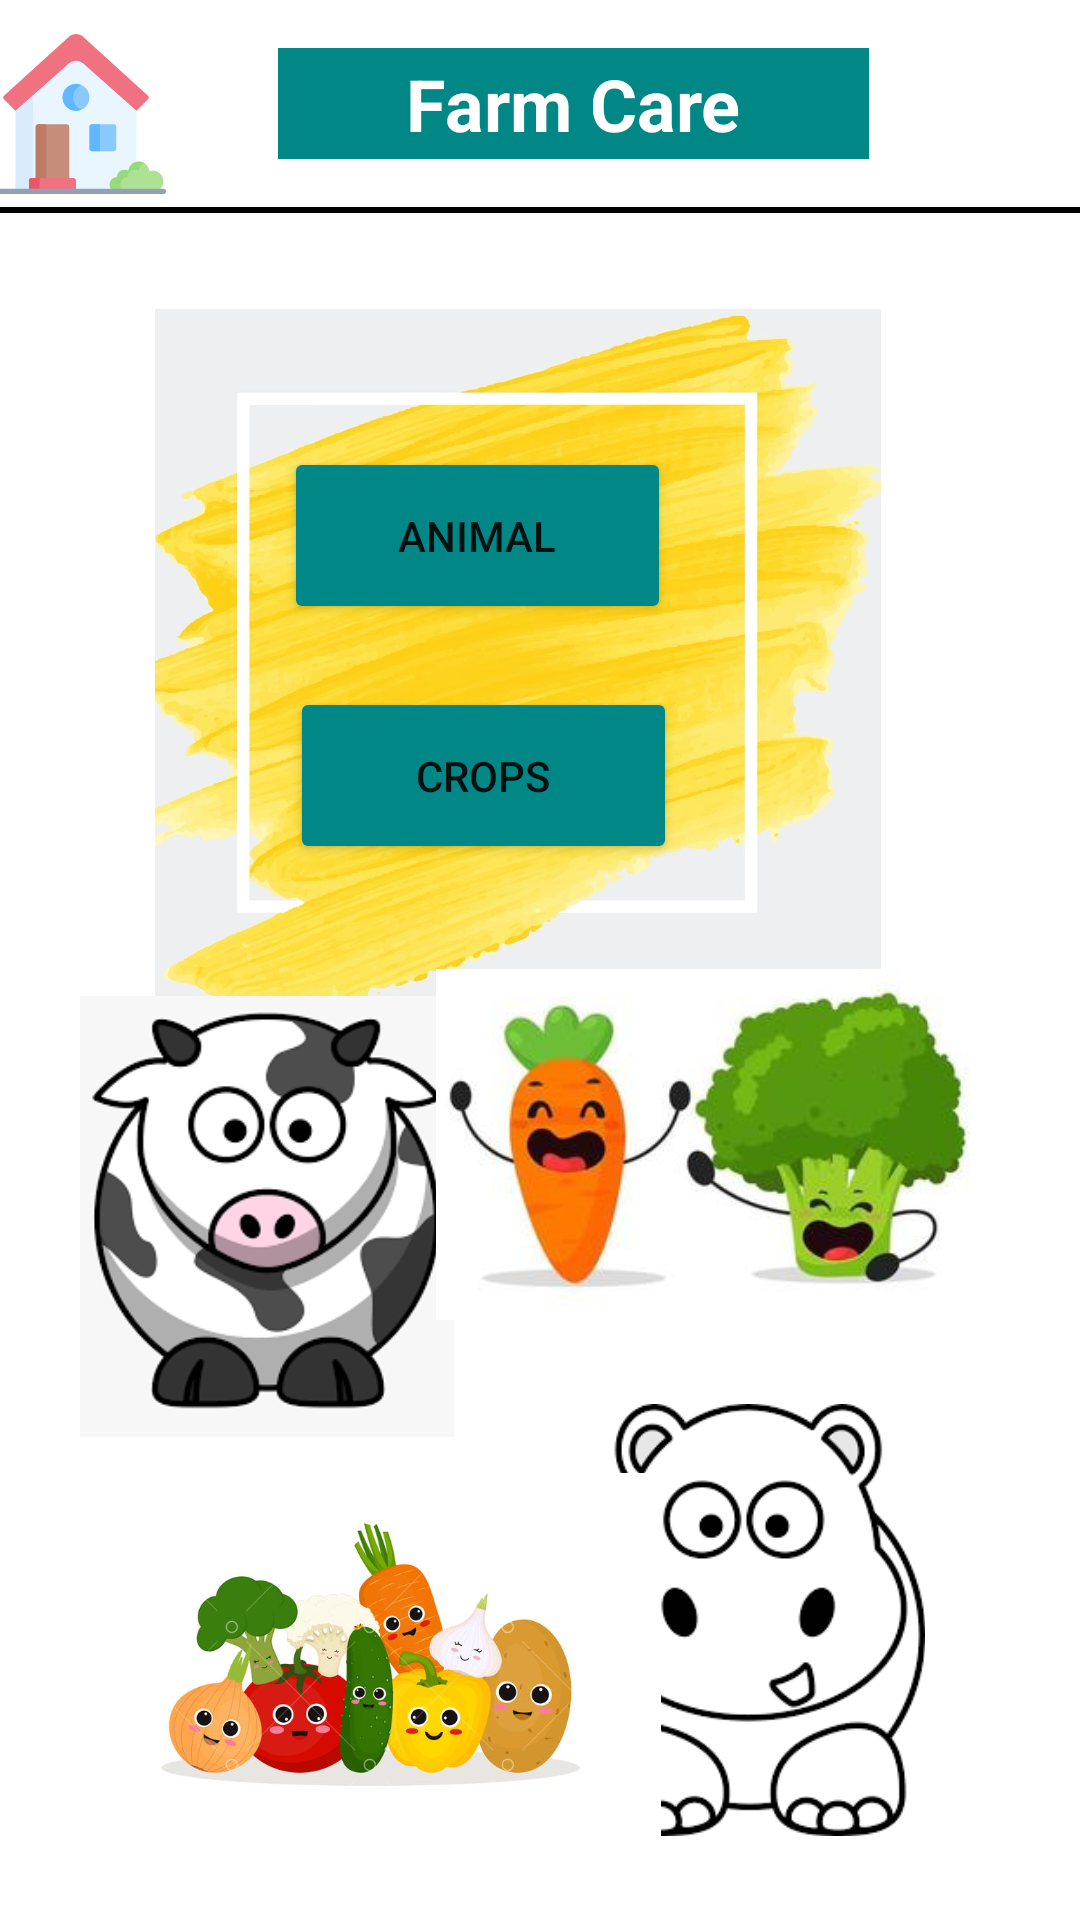

Point at icon controls on the screen. Image size 1080w x 1920h, points as point (x, y).
home: point (83, 114)
